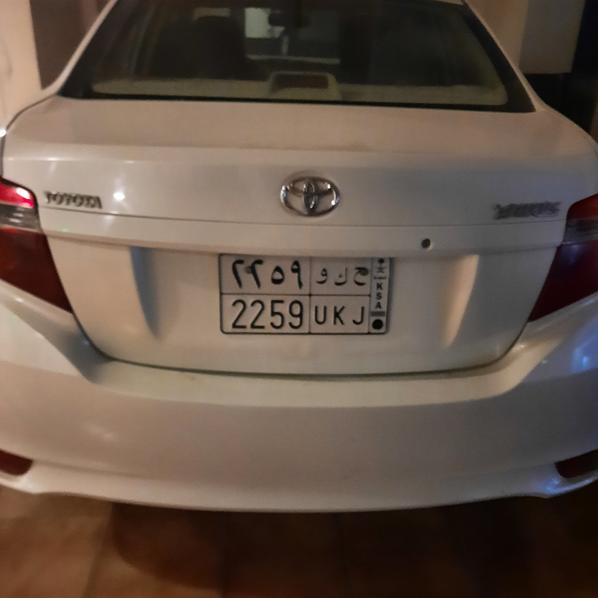numberplate: (219, 252, 390, 337)
